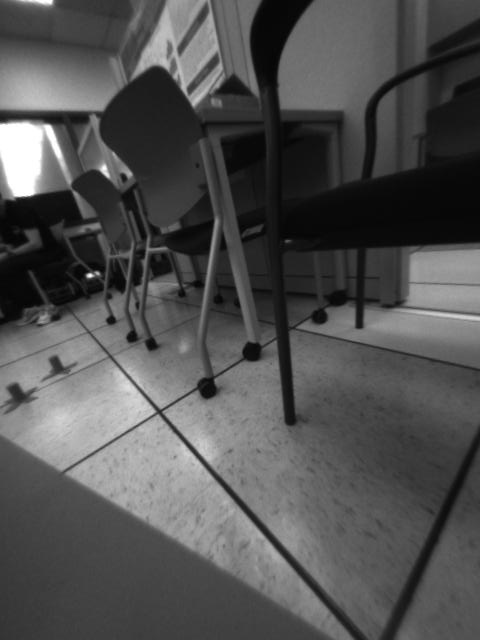X: (1, 382, 38, 415), (41, 352, 78, 380)
